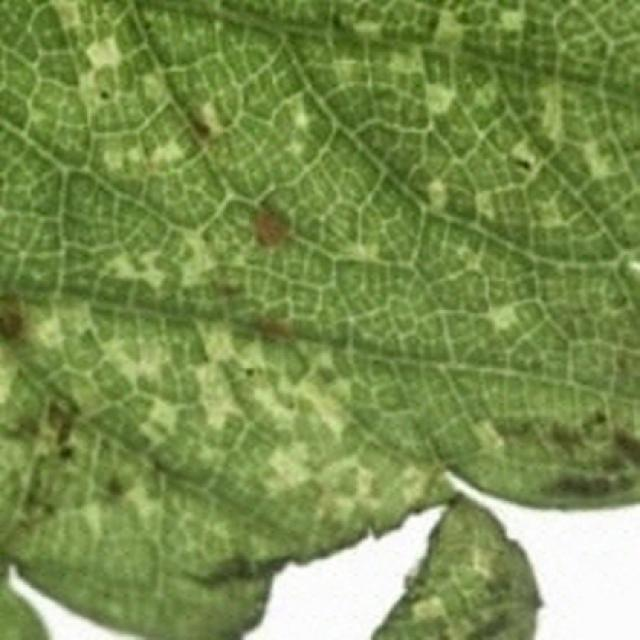Angular Leafspot: (0, 0, 638, 638)
